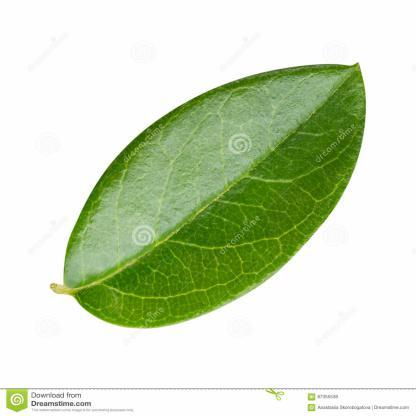Blueberry leaf: (40, 52, 380, 338)
